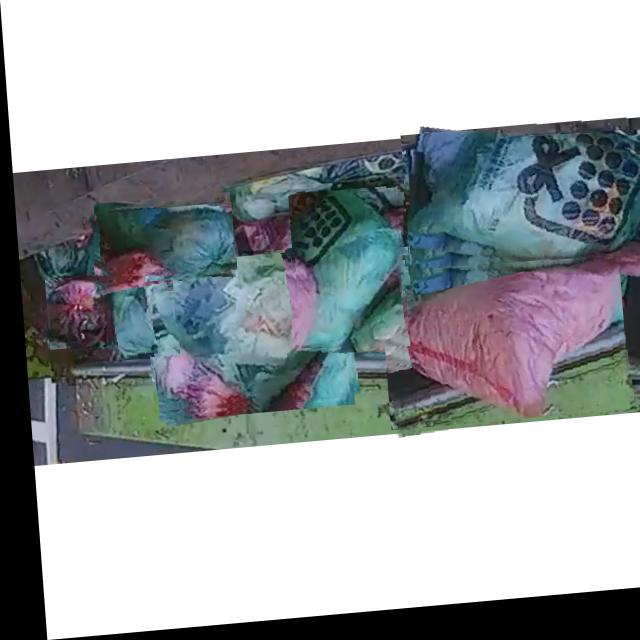general_trashbag: (403, 139, 640, 270), (141, 260, 337, 411), (289, 197, 396, 354), (90, 212, 230, 280), (105, 286, 172, 359)
other_trashbag: (379, 240, 608, 427), (146, 259, 230, 332), (43, 279, 103, 349)
